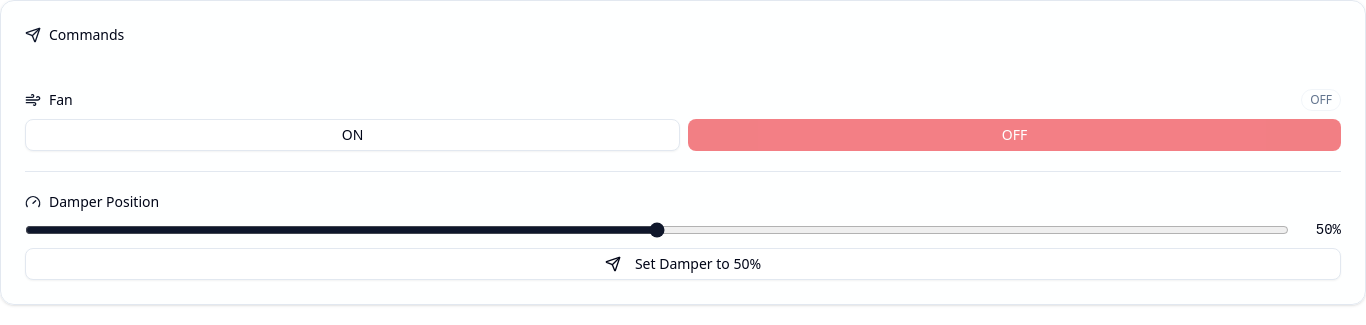
Test: CommandsPanel - Fan Controls › both buttons are disabled while command is pending
Click the button "ON": [352, 135] box left=25, top=119, right=680, bottom=151
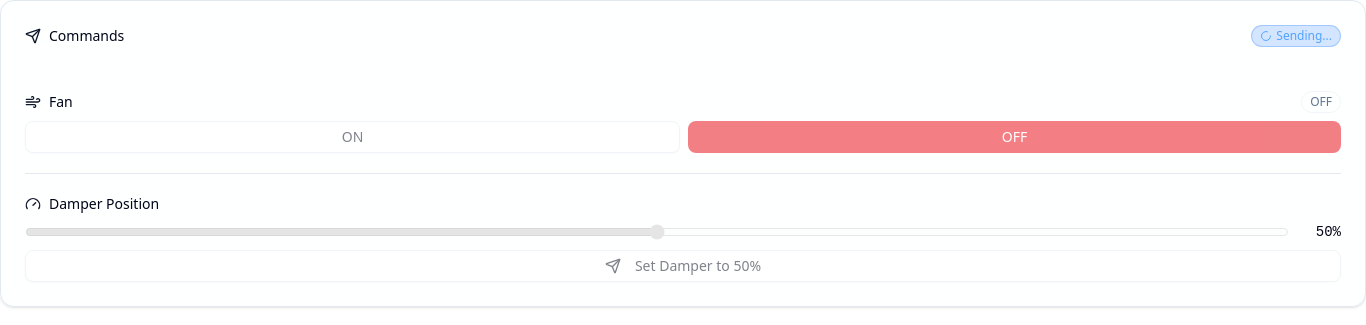
Expected: the button "OFF" is disabled, left=688, top=121, right=1341, bottom=153
Expected: the button "ON" is disabled, left=25, top=121, right=680, bottom=153
